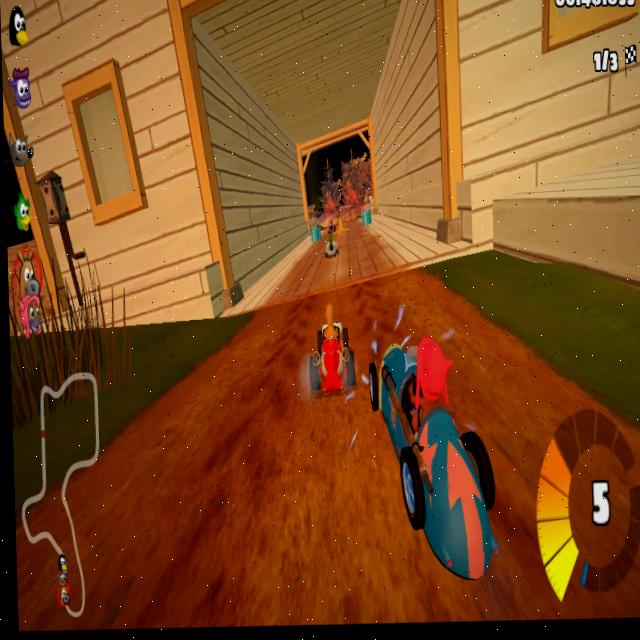bonus: (361, 208, 375, 226), (310, 227, 319, 246)
enemy_kart: (362, 336, 503, 577), (321, 238, 342, 265)
obstacle: (338, 216, 348, 236)
player_kart: (308, 308, 359, 401)
